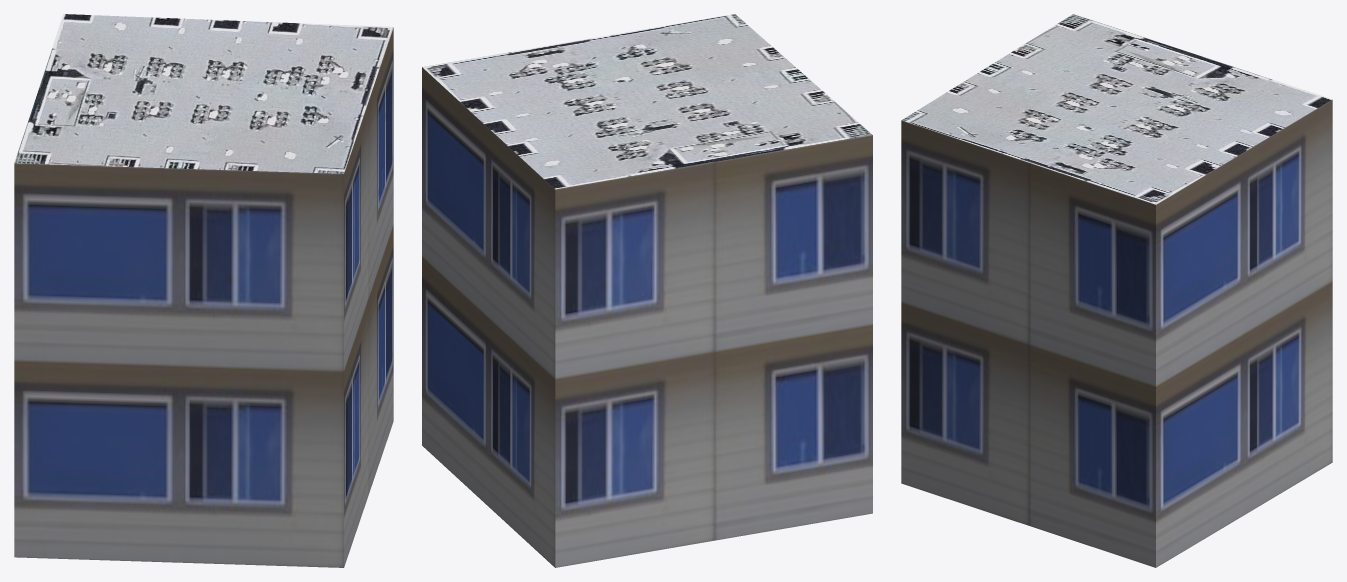
File: ResTex__3866.fbx
The picture shows the model from 3 angles, left to right: view 1: azimuth 30°, elevation 25°; view 2: azimuth 150°, elevation 25°; view 3: azimuth 270°, elevation 25°; orthographic projection. The views are drawn at different scales.
Parts seen in each view (by area): view 1: CityEngineMaterial_23_m, CityEngineMaterial_m; view 2: CityEngineMaterial_23_m, CityEngineMaterial_m; view 3: CityEngineMaterial_23_m, CityEngineMaterial_m.
Part boxes in pixels (x1,y1,x2,y2): CityEngineMaterial_23_m: (14, 28, 393, 567); CityEngineMaterial_m: (14, 14, 393, 173); CityEngineMaterial_23_m: (422, 67, 872, 567); CityEngineMaterial_m: (422, 14, 872, 189); CityEngineMaterial_23_m: (901, 99, 1332, 567); CityEngineMaterial_m: (901, 14, 1332, 204).
Bounding box in the file's own units: 6.76 × 6 × 6.46.
Materials: 2 (2 with a texture image).
